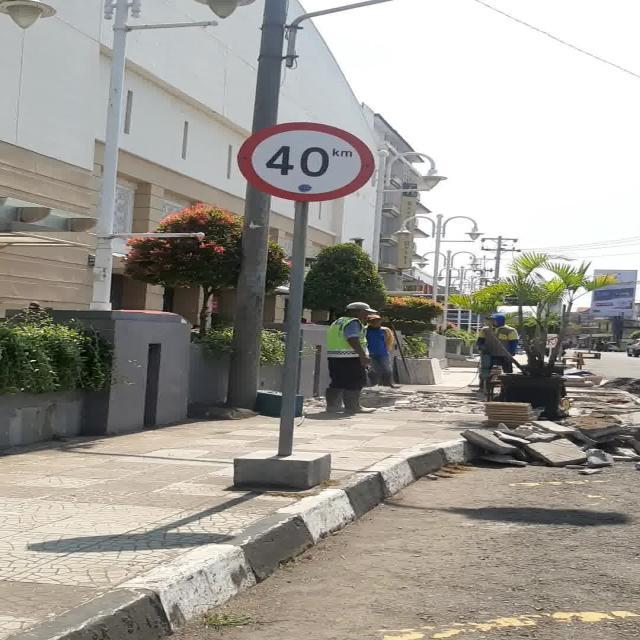Kecepatan Maks. 40 km: (236, 121, 376, 202)
